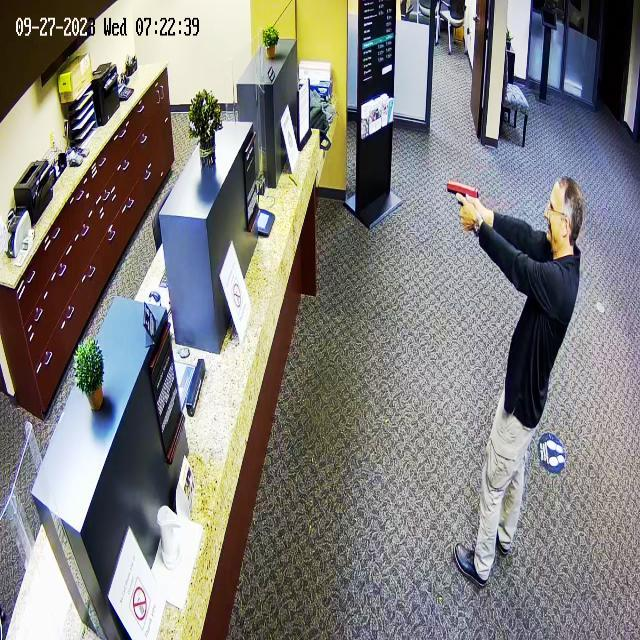Gun: (434, 173, 484, 225)
